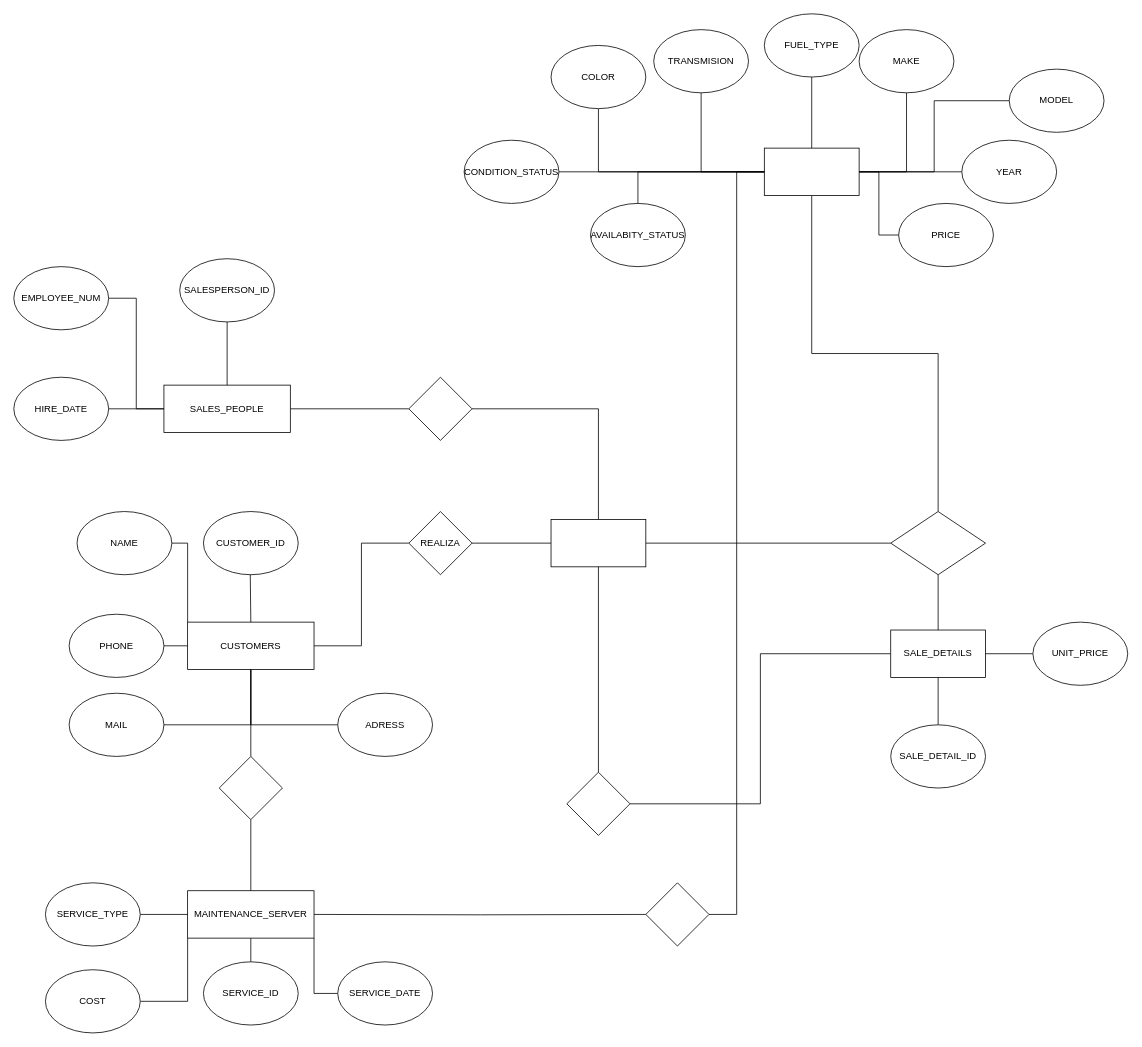
This 1142x1047 diagram has some shape labels left out. The centre of each missing label's shape, as x and y in pixels:
CORRESPONDE: the point at 938,543
GESTIONA: the point at 440,408
INCLUYE: the point at 598,803
RECIBE: the point at 677,914
SALES: the point at 598,543
SOLICITA: the point at 250,788
VEHICLES: the point at 811,171
